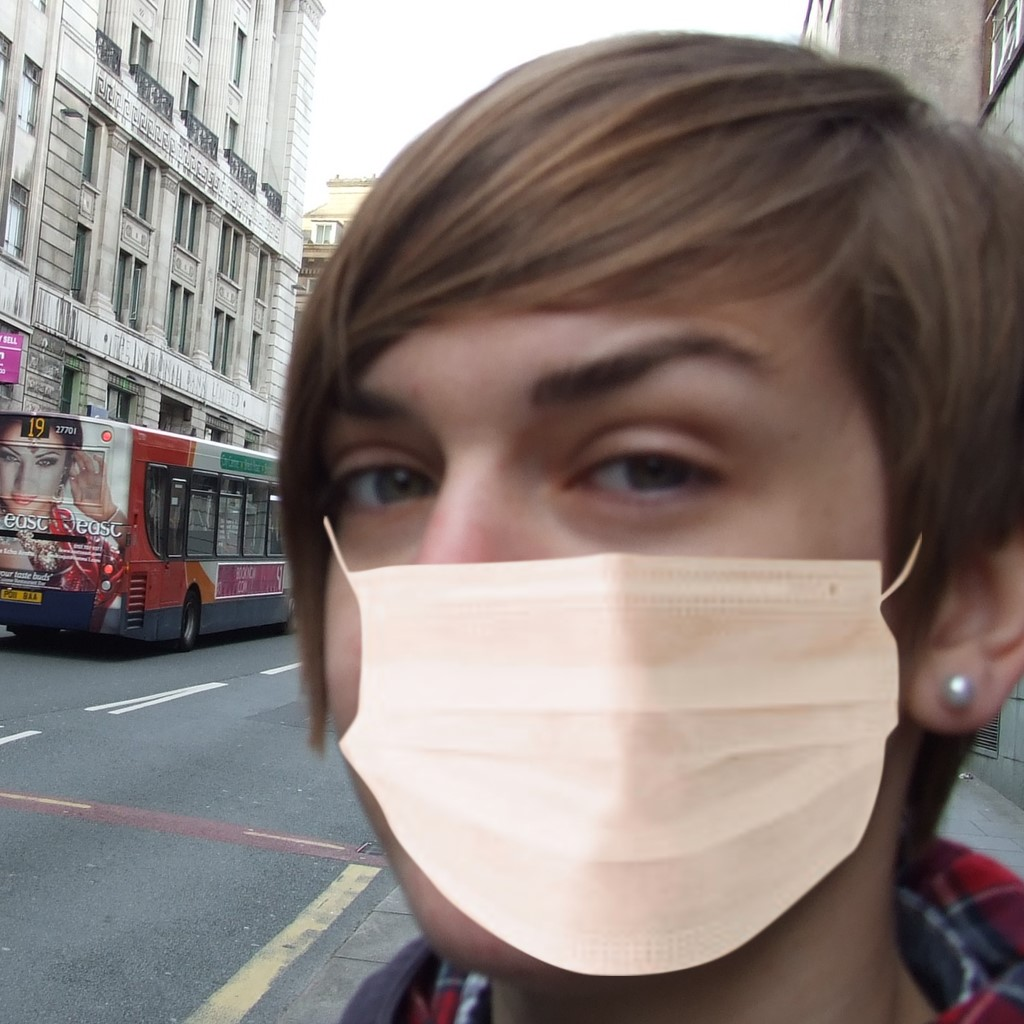con_mascara: (322, 174, 902, 963)
